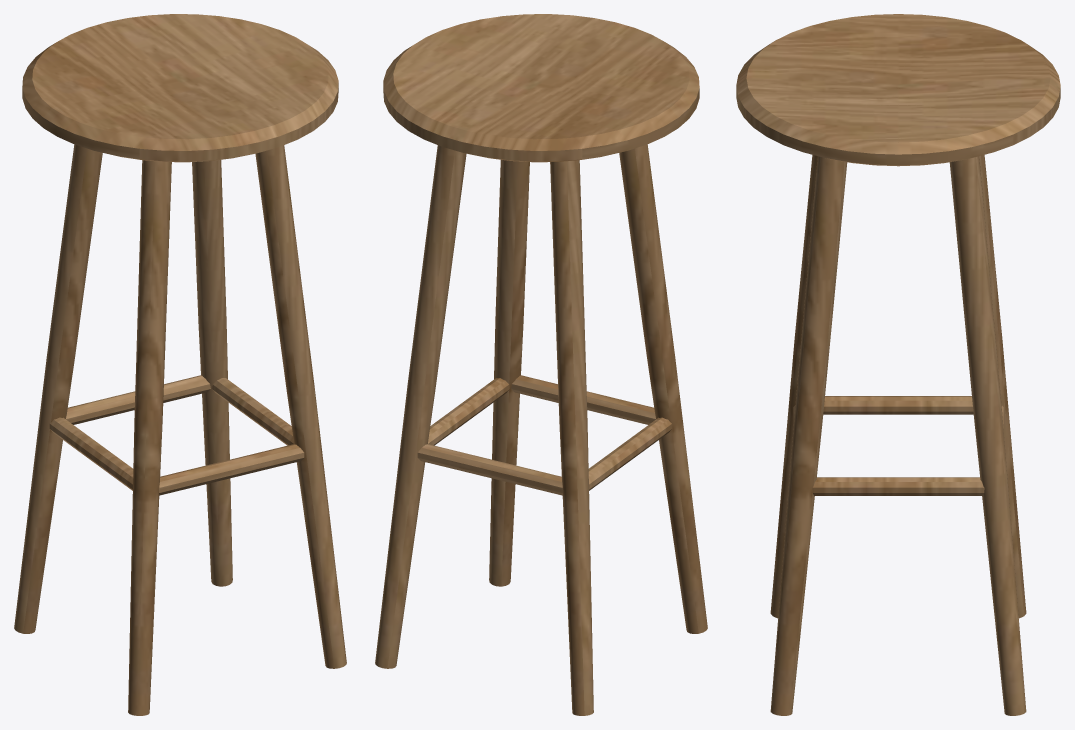
The model's file is taburete_madera_75.glb.
The picture shows the model from 3 angles, left to right: view 1: azimuth 30°, elevation 25°; view 2: azimuth 150°, elevation 25°; view 3: azimuth 270°, elevation 25°; orthographic projection. The views are drawn at different scales.
Visible parts, largest first — view 1: taburete_madera_75; view 2: taburete_madera_75; view 3: taburete_madera_75.
Part boxes in pixels (bbox=[...]): taburete_madera_75: bbox=[14, 14, 346, 715]; taburete_madera_75: bbox=[375, 14, 707, 715]; taburete_madera_75: bbox=[736, 14, 1060, 715].
Size of the model in its own units: 0.38 by 0.7566 by 0.38.
Materials: 1 (1 with a texture image).
